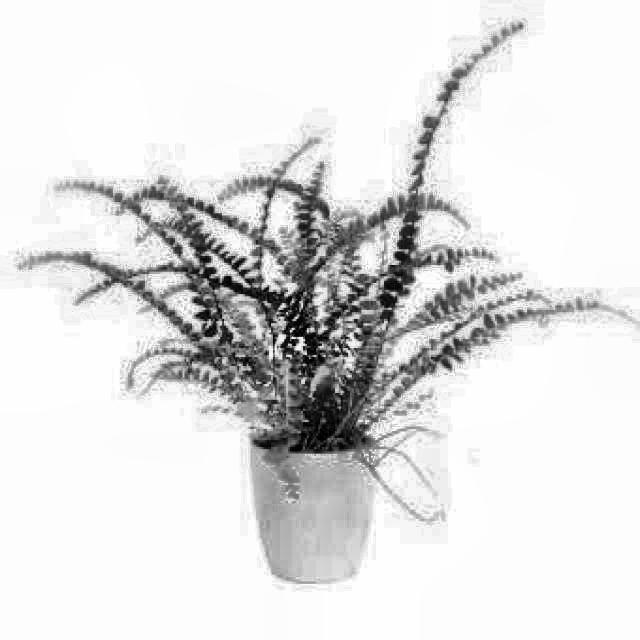plants: (100, 158, 539, 570)
